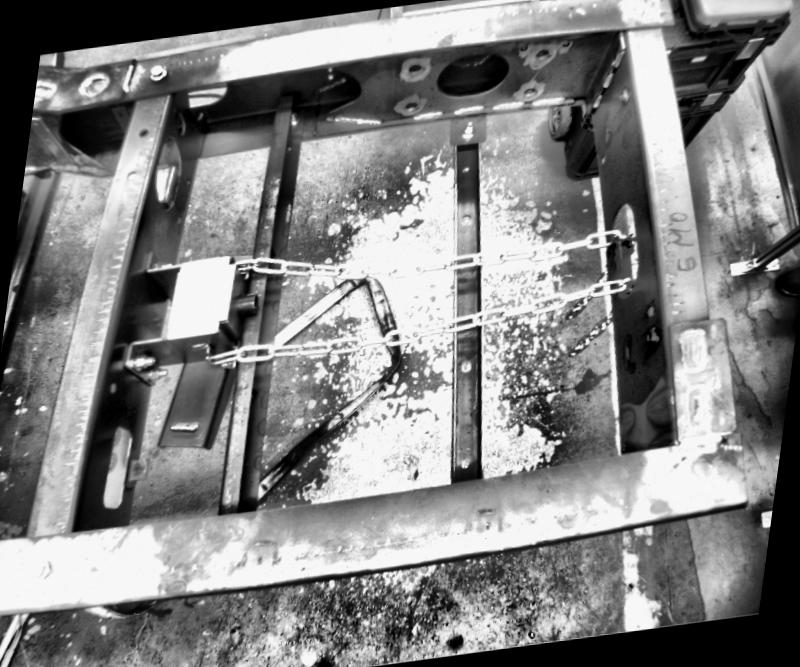bolt: (144, 56, 174, 86), (130, 352, 158, 370), (642, 325, 664, 347), (284, 108, 304, 126), (146, 365, 168, 381), (461, 115, 475, 138), (154, 256, 174, 272), (620, 88, 630, 104)
bracket: (601, 228, 630, 279), (123, 453, 152, 488)
hole: (428, 46, 515, 101), (96, 414, 135, 518), (149, 132, 185, 219), (176, 75, 235, 110), (403, 58, 426, 76), (402, 98, 420, 113), (532, 48, 550, 62), (522, 83, 539, 96), (458, 358, 473, 372), (459, 211, 472, 225), (644, 303, 658, 316), (108, 379, 120, 394), (459, 457, 472, 470), (125, 169, 138, 181), (138, 125, 150, 136), (461, 164, 471, 174), (132, 463, 142, 472)
welding: (588, 90, 604, 108), (611, 47, 625, 66), (598, 72, 615, 86)
